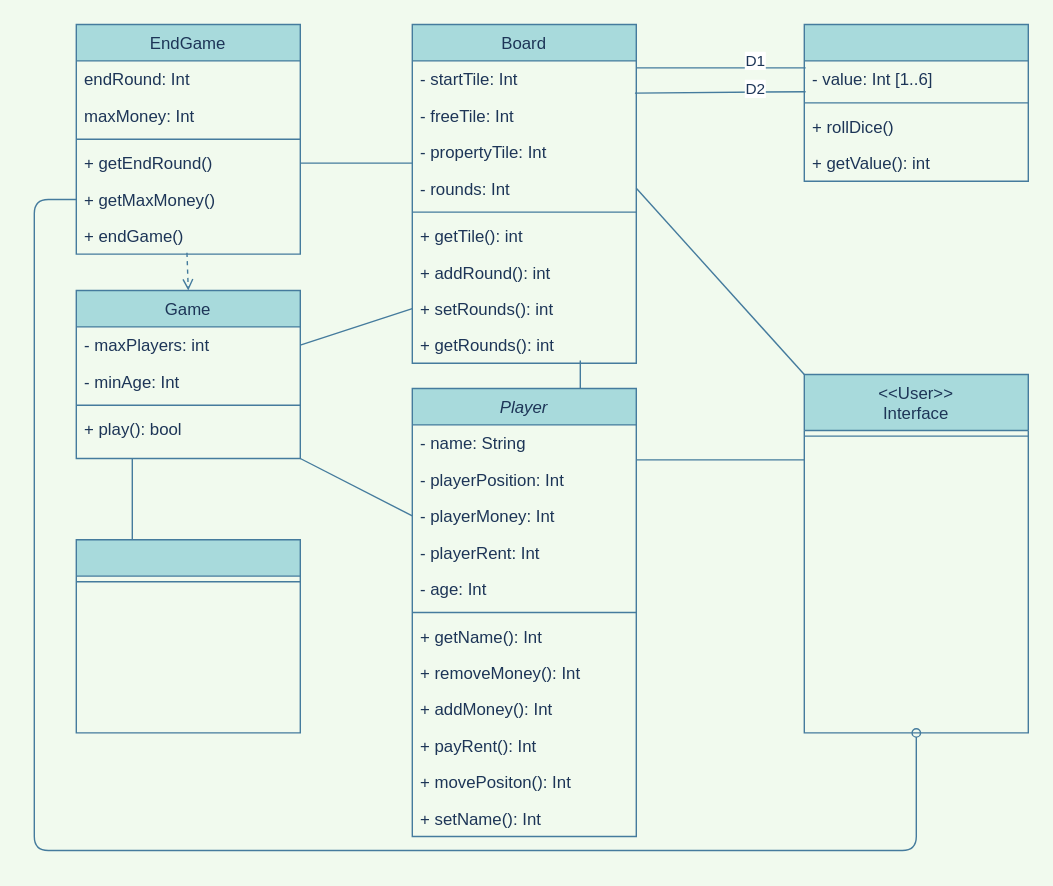
Image size: 1053x886. Some labels were removed from this diagram. Each missing label, with the box of its shape:
Computer Player: (75, 538, 300, 733)
TheDice: (803, 23, 1028, 181)
